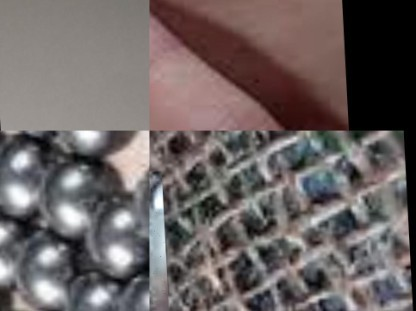ironball: (41, 151, 128, 236), (11, 230, 85, 311), (89, 197, 148, 280), (1, 138, 47, 221)
